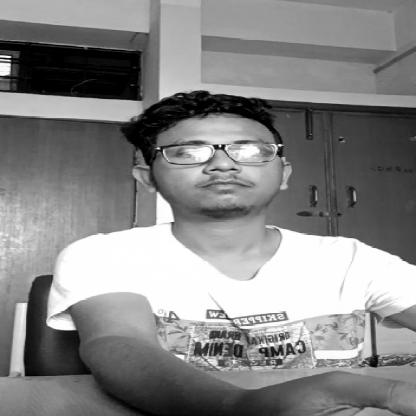Normal: (147, 110, 295, 219)
